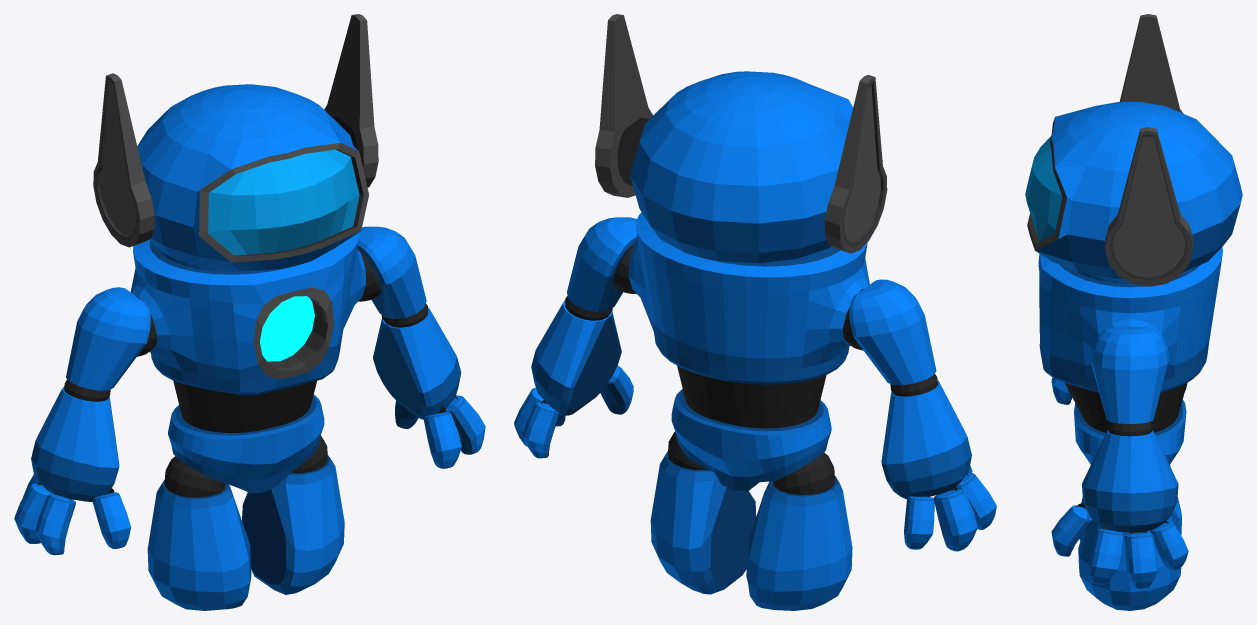
The model's file is Robot2.glb.
3 renders of one model, left to right at view 1: azimuth 30°, elevation 25°; view 2: azimuth 150°, elevation 25°; view 3: azimuth 270°, elevation 25°, orthographic. The views are drawn at different scales.
Visible parts, largest first — view 1: Head, Body, Arms, Legs; view 2: Head, Body, Arms, Legs; view 3: Head, Arms, Body, Legs.
Part boxes in pixels (box(x1,y1,x2,y2)): Head: box(93, 14, 378, 271); Body: box(130, 232, 365, 493); Arms: box(14, 226, 485, 555); Legs: box(147, 435, 344, 610); Head: box(595, 14, 887, 263); Body: box(628, 212, 869, 491); Arms: box(514, 217, 996, 551); Legs: box(650, 431, 852, 610); Head: box(1025, 14, 1242, 286); Arms: box(1051, 327, 1188, 588); Body: box(1038, 247, 1222, 464); Legs: box(1078, 465, 1181, 610).
Bounding box in the file's own units: 2.88 × 3.29 × 1.28.
1 material, 1 textured.
